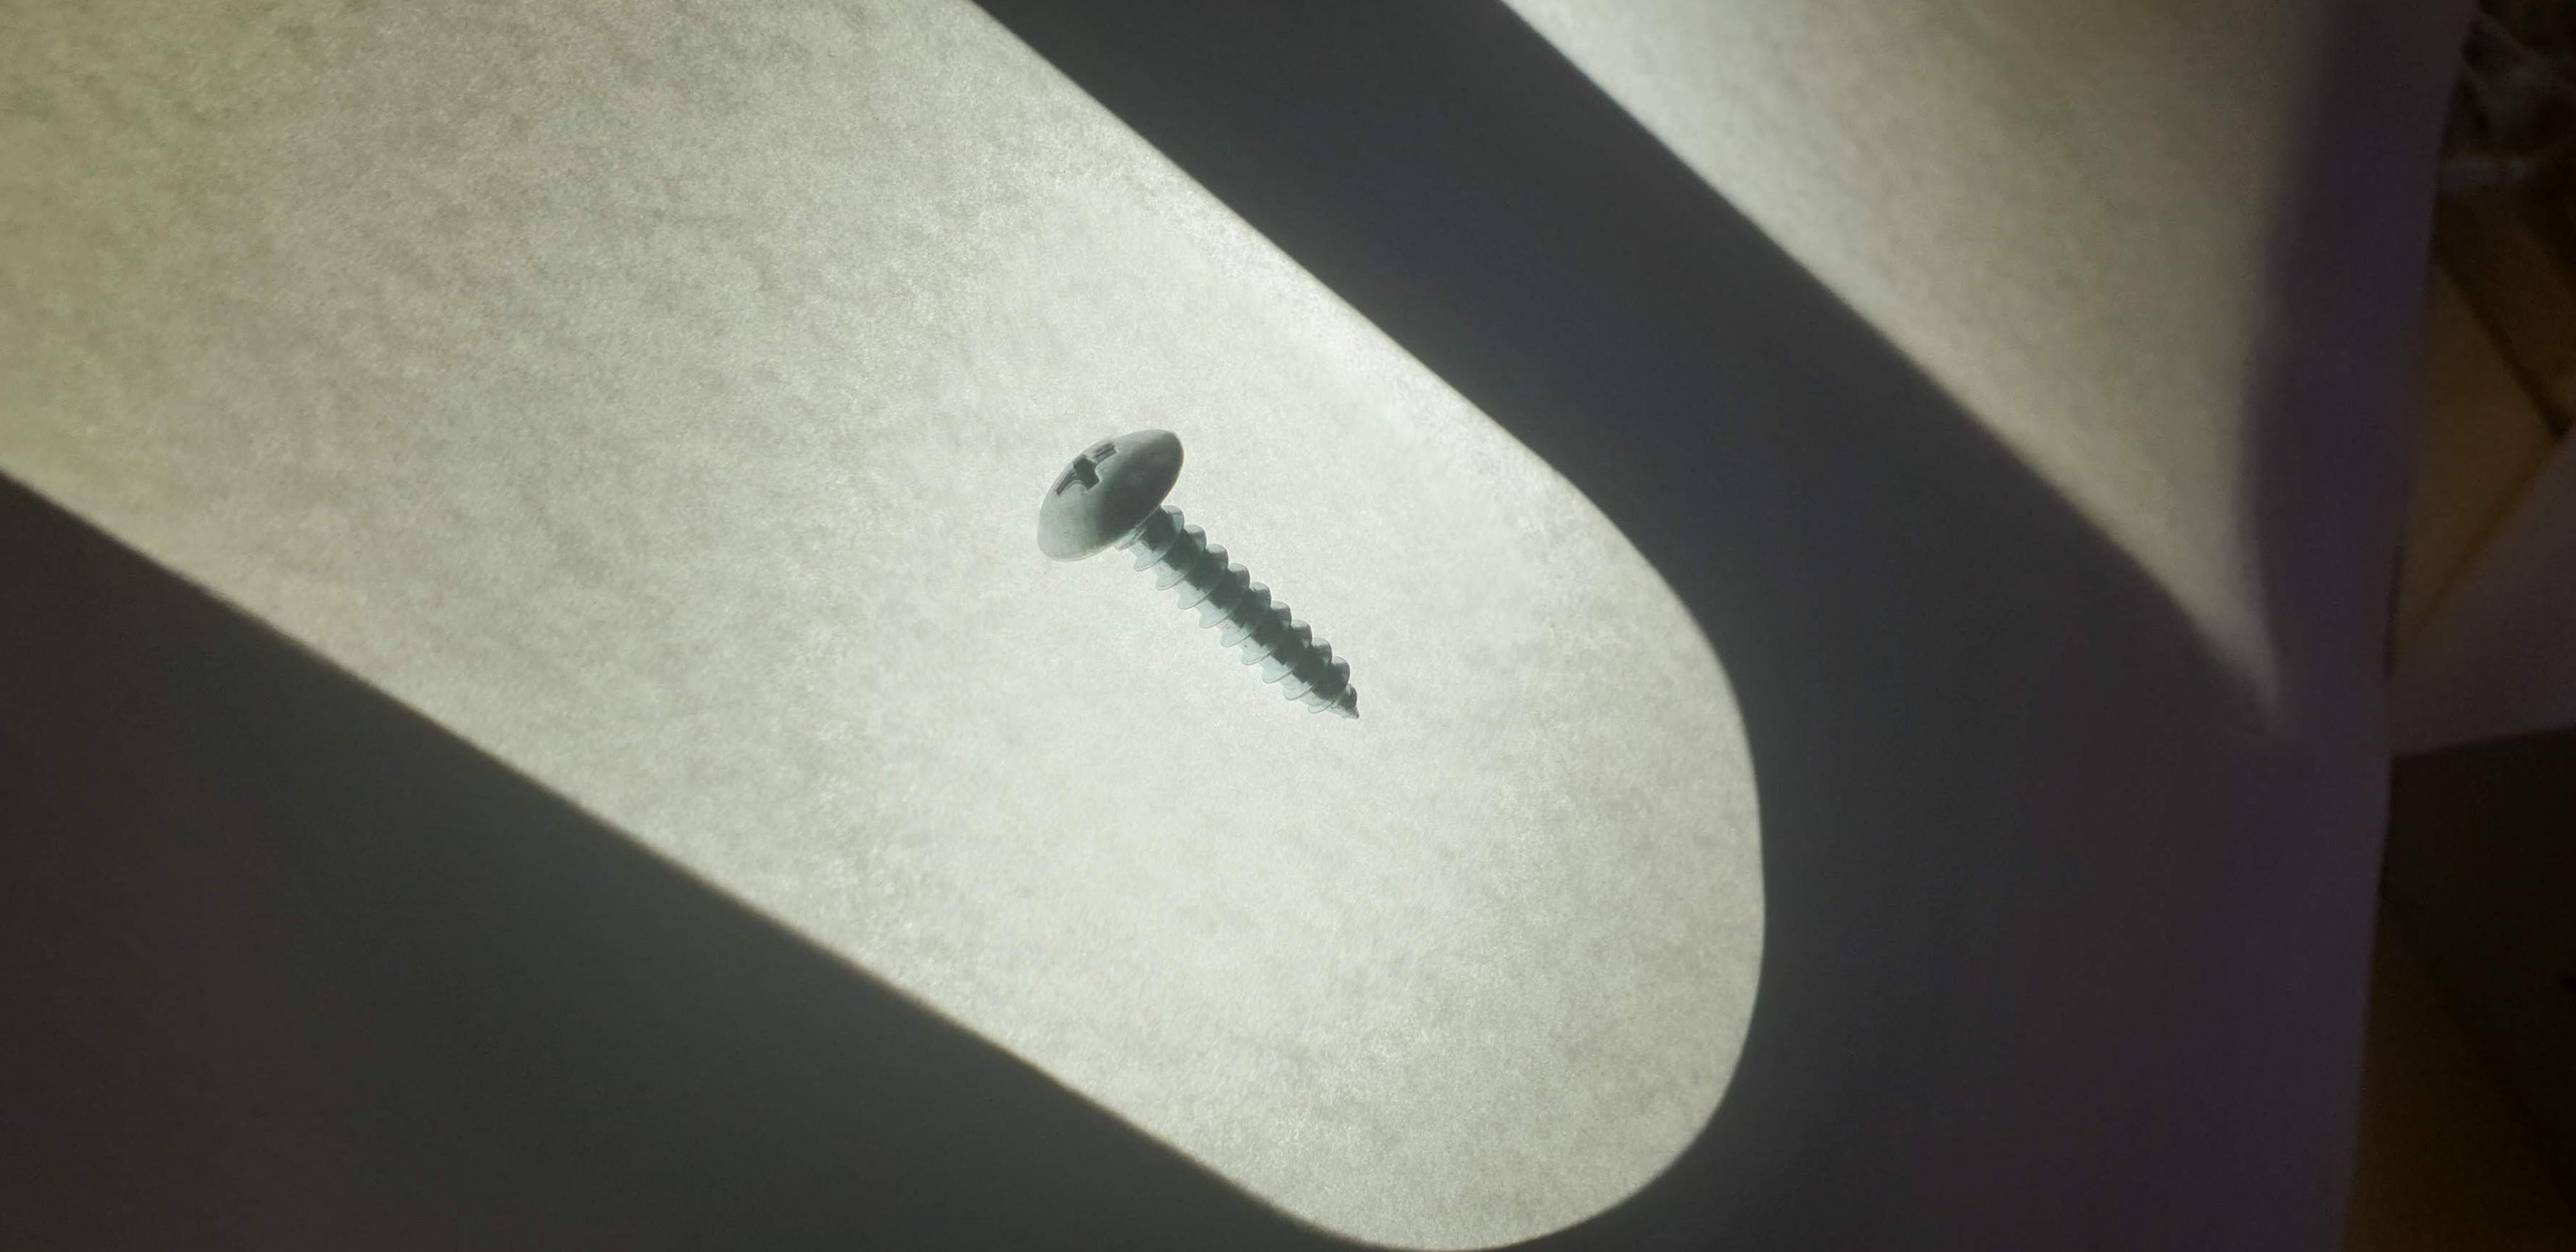S002: (982, 381, 1442, 759)
